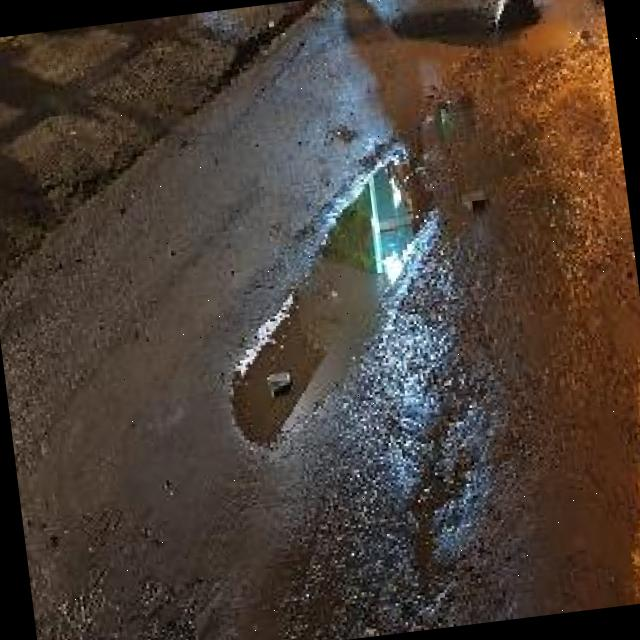stagnation: (179, 146, 498, 456)
